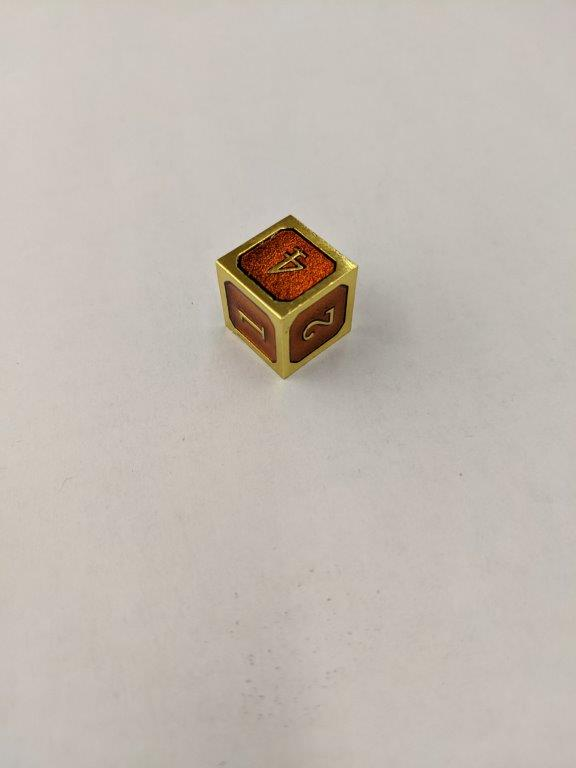d6-4: (216, 213, 358, 379)
